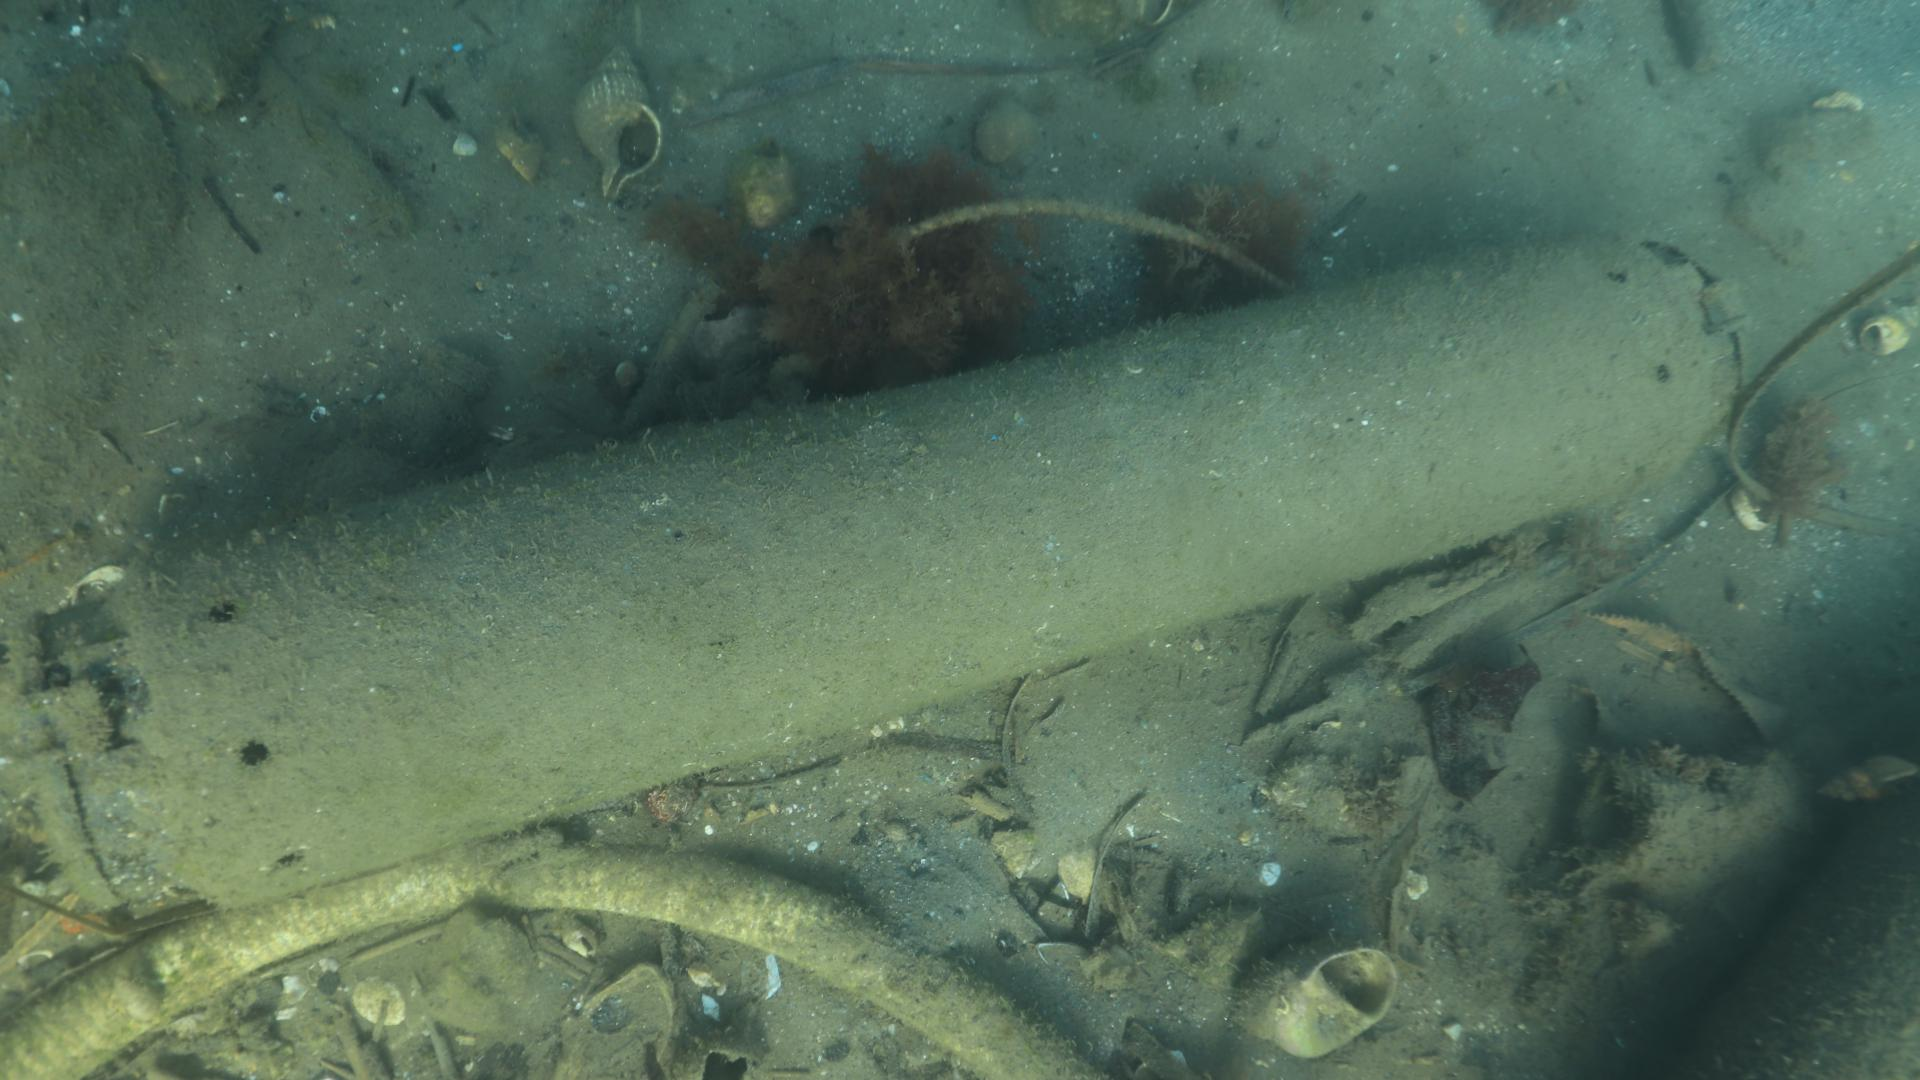eel fish trap: (0, 228, 1737, 920)
